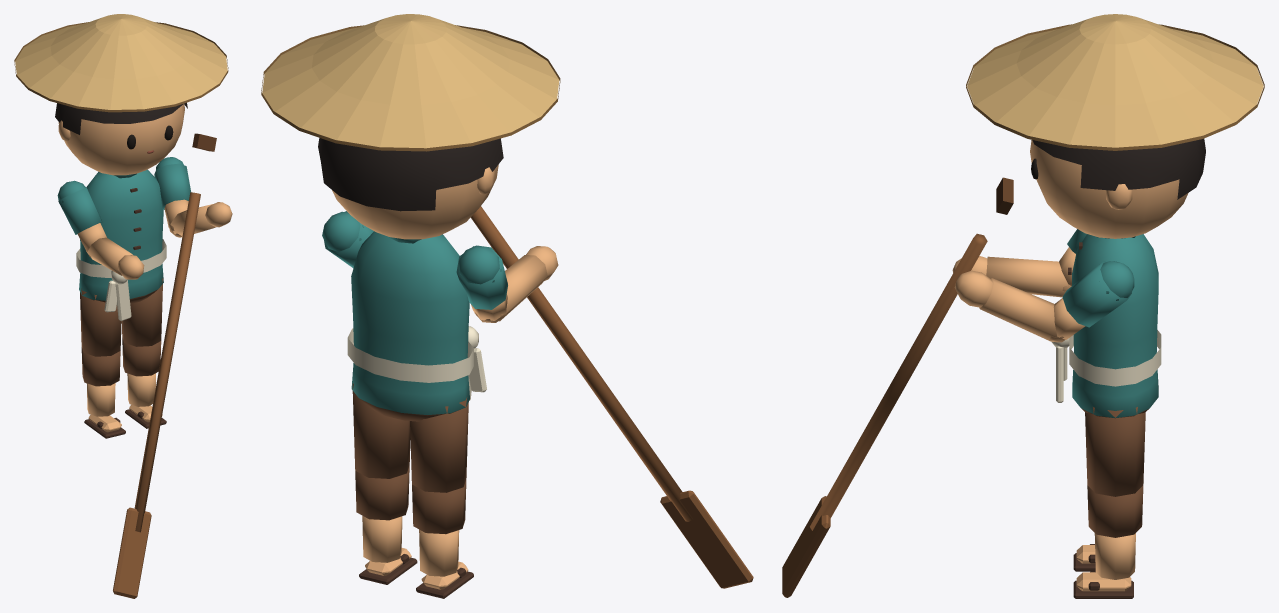
File: west_paddle_man.glb
3 views of the same model, side by side, from view 1: azimuth 30°, elevation 25°; view 2: azimuth 150°, elevation 25°; view 3: azimuth 270°, elevation 25° (orthographic). The views are drawn at different scales.
Parts seen in each view (by area): view 1: head, body, prop_paddle, shin_R, shin_L, leg_R, arm_R, leg_L, arm_L, forearm_R, forearm_L; view 2: head, body, prop_paddle, shin_L, shin_R, leg_R, leg_L, arm_R, forearm_R, arm_L; view 3: head, body, prop_paddle, shin_L, leg_L, arm_L, forearm_L, forearm_R, arm_R.
Part boxes in pixels (bbox=[...]): head: bbox=[14, 14, 228, 175]; body: bbox=[76, 169, 166, 321]; prop_paddle: bbox=[113, 133, 216, 598]; shin_R: bbox=[81, 347, 125, 438]; shin_L: bbox=[122, 337, 166, 428]; leg_R: bbox=[80, 288, 121, 356]; arm_R: bbox=[57, 180, 106, 257]; leg_L: bbox=[121, 278, 163, 346]; arm_L: bbox=[154, 157, 190, 237]; forearm_R: bbox=[86, 237, 144, 279]; forearm_L: bbox=[169, 202, 232, 237]; head: bbox=[261, 14, 560, 239]; body: bbox=[347, 231, 486, 421]; prop_paddle: bbox=[471, 206, 753, 588]; shin_L: bbox=[355, 465, 417, 584]; shin_R: bbox=[412, 479, 473, 598]; leg_R: bbox=[410, 397, 468, 492]; leg_L: bbox=[352, 383, 410, 478]; arm_R: bbox=[456, 245, 507, 322]; forearm_R: bbox=[475, 246, 558, 321]; arm_L: bbox=[322, 211, 373, 268]; head: bbox=[966, 14, 1264, 238]; body: bbox=[1051, 234, 1161, 418]; prop_paddle: bbox=[782, 177, 1013, 597]; shin_L: bbox=[1073, 485, 1143, 598]; leg_L: bbox=[1085, 407, 1145, 496]; arm_L: bbox=[1049, 261, 1134, 342]; forearm_L: bbox=[954, 270, 1063, 342]; forearm_R: bbox=[952, 256, 1071, 297]; arm_R: bbox=[1059, 229, 1086, 296].
Size of the model in its own units: 0.9209 by 1.87 by 1.26.
